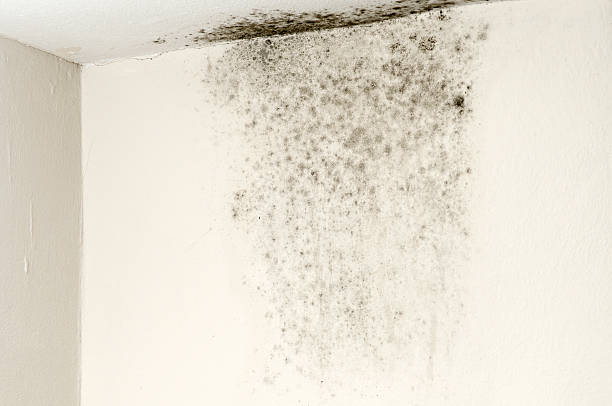schimmel: (219, 0, 445, 43), (450, 89, 475, 123)
